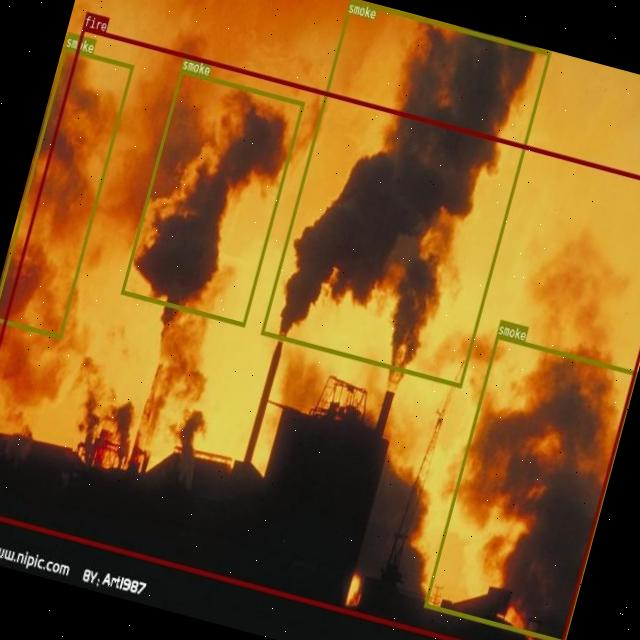fire: (0, 25, 640, 640)
smoke: (259, 0, 550, 386), (422, 333, 636, 640), (120, 68, 304, 326), (0, 45, 134, 338)
